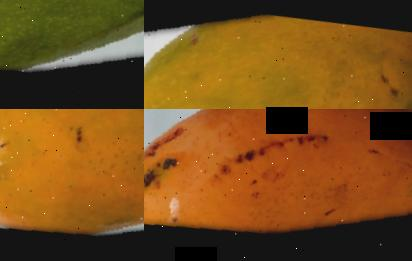PartiallyRipe: (144, 0, 412, 109), (0, 109, 144, 261)
Ripe: (144, 109, 412, 261)
Unripe: (0, 0, 144, 109)
